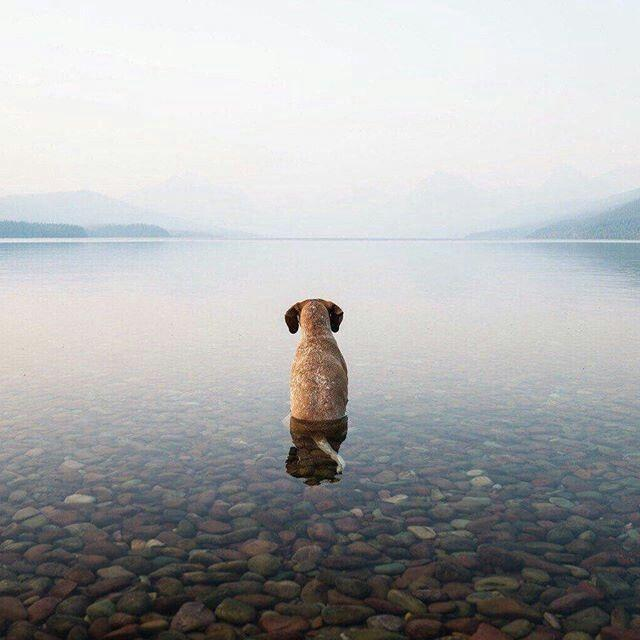adult_dog: (283, 296, 348, 474)
